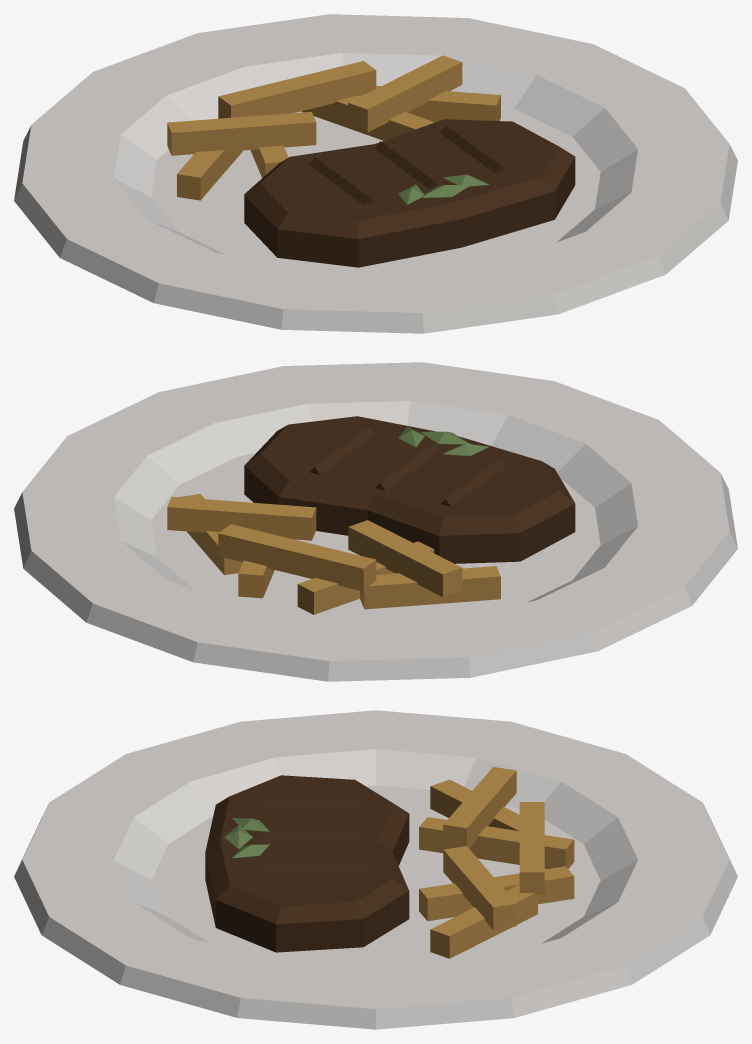
Rendered from tarelka_food_1.glb.
3 renders of one model, top to bottom at view 1: azimuth 30°, elevation 25°; view 2: azimuth 150°, elevation 25°; view 3: azimuth 270°, elevation 25°, orthographic.
Visible parts, largest first — view 1: mesh_0; view 2: mesh_0; view 3: mesh_0.
Part boxes in pixels (<box>): mesh_0: <box>14,14,737,333</box>; mesh_0: <box>14,362,737,681</box>; mesh_0: <box>14,710,737,1029</box>.
Bounding box in the file's own units: 0.348 × 0.0345 × 0.348.
